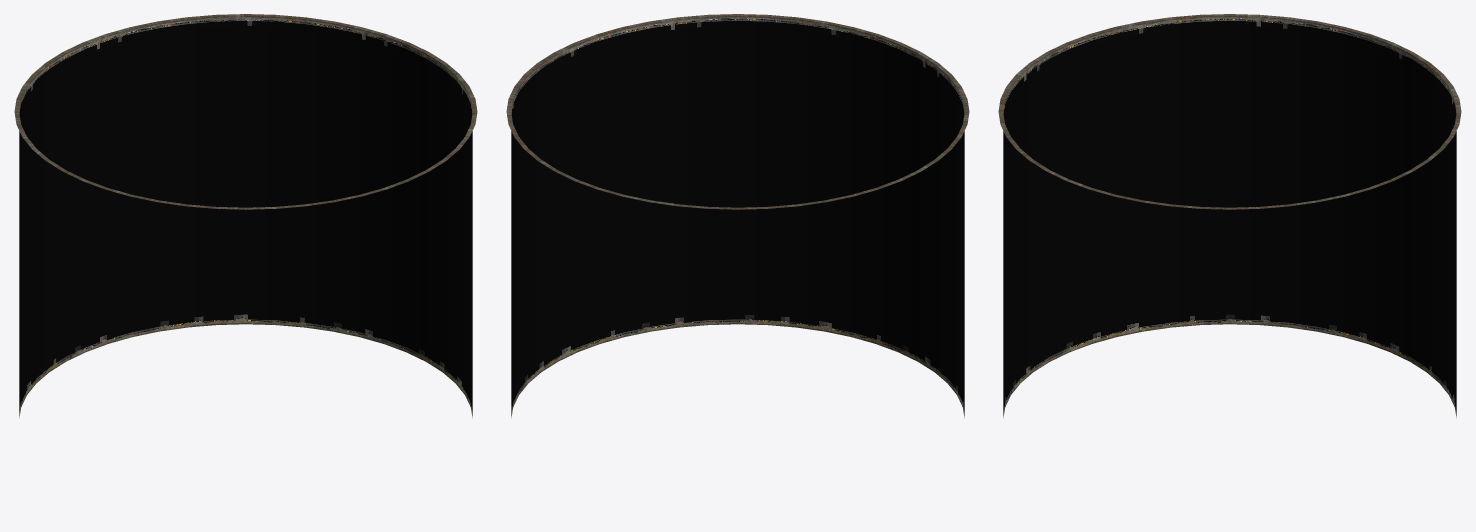
Rendered from sewer_chimney.glb.
The picture shows the model from 3 angles, left to right: view 1: azimuth 30°, elevation 25°; view 2: azimuth 150°, elevation 25°; view 3: azimuth 270°, elevation 25°; orthographic projection.
Visible parts, largest first — view 1: sewer_chimney; view 2: sewer_chimney; view 3: sewer_chimney.
Boxes of the visible parts, bbox=[...] form: sewer_chimney: bbox=[14, 14, 477, 417]; sewer_chimney: bbox=[506, 14, 969, 417]; sewer_chimney: bbox=[998, 14, 1461, 417].
Size of the model in its own units: 12.25 by 9 by 12.25.
1 material, 1 textured.
